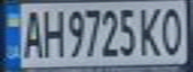2: (100, 6, 121, 57)
5: (118, 5, 139, 57)
7: (81, 6, 103, 57)
9: (63, 6, 84, 58)
A: (18, 6, 45, 60)
H: (39, 6, 66, 58)
K: (136, 3, 163, 57)
O: (157, 3, 187, 56)
